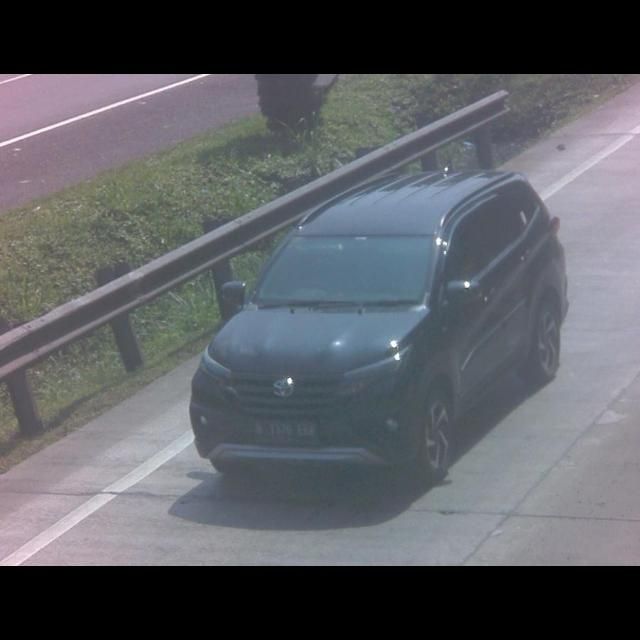plate: (251, 418, 317, 442)
